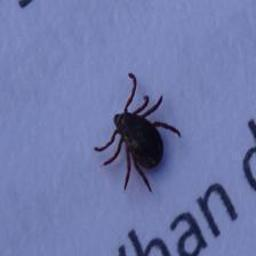Rhipicephalus sanguineus: (92, 72, 181, 192)
